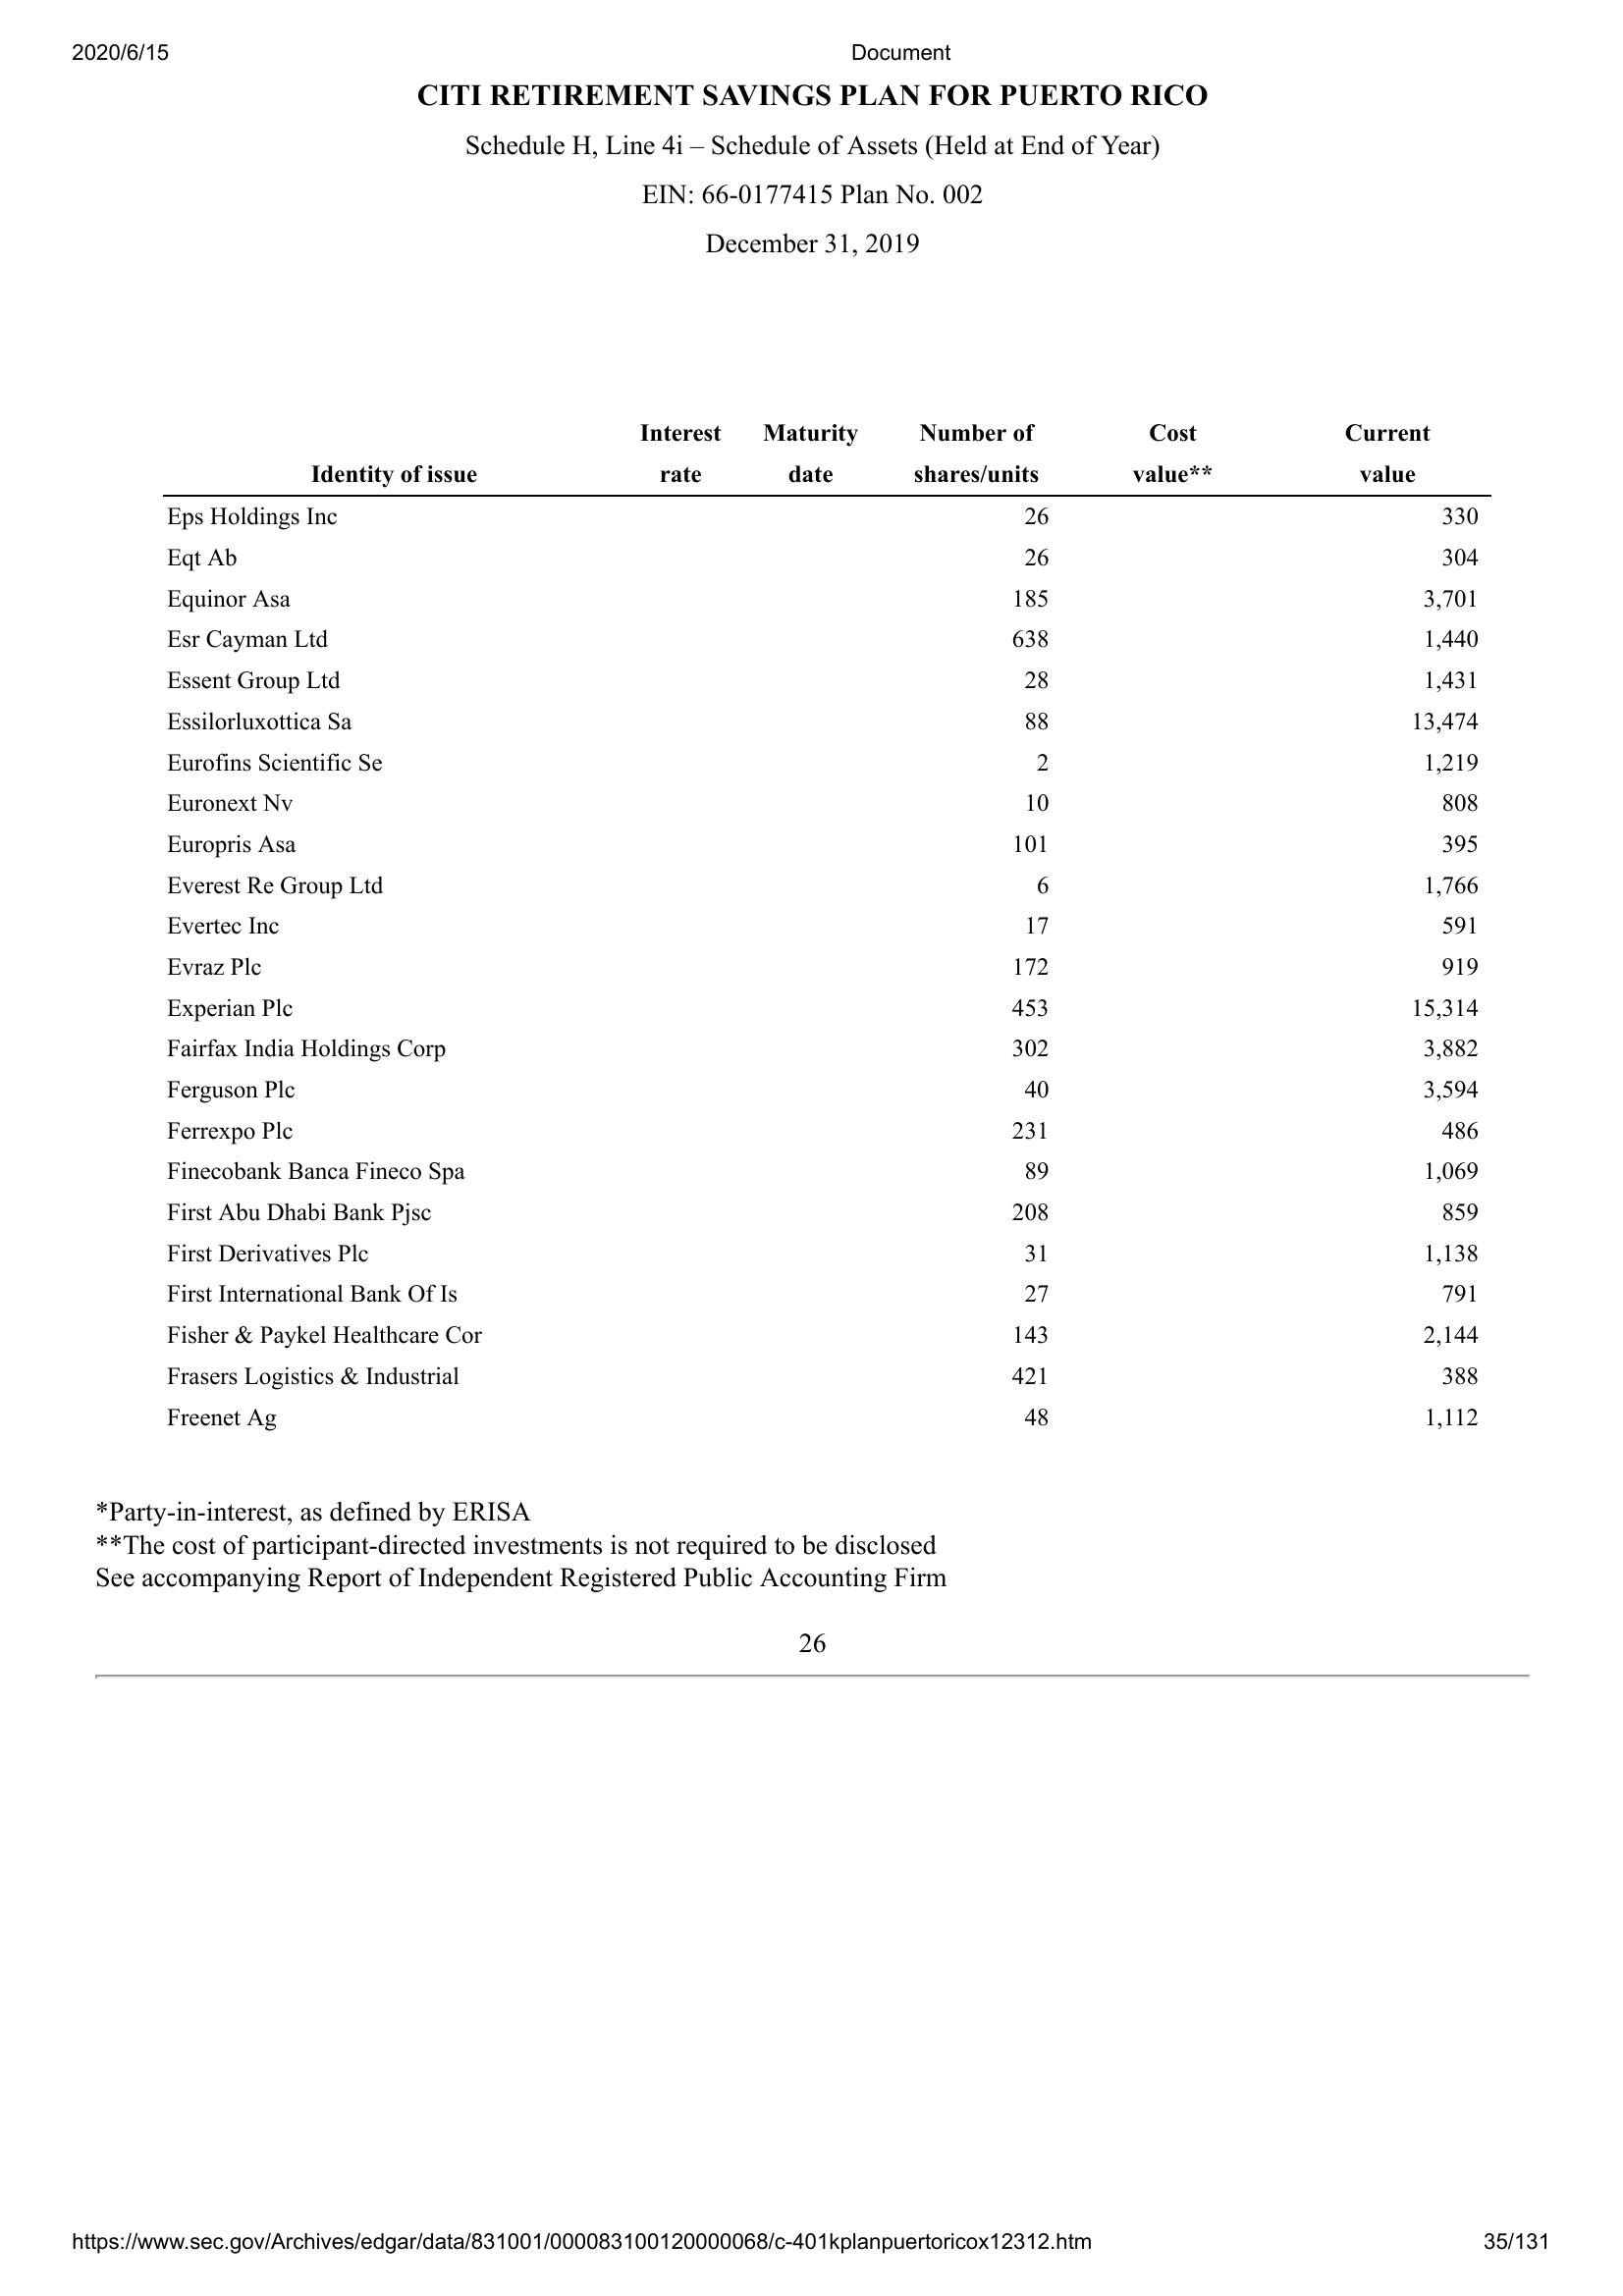table: (155, 409, 1497, 1441)
